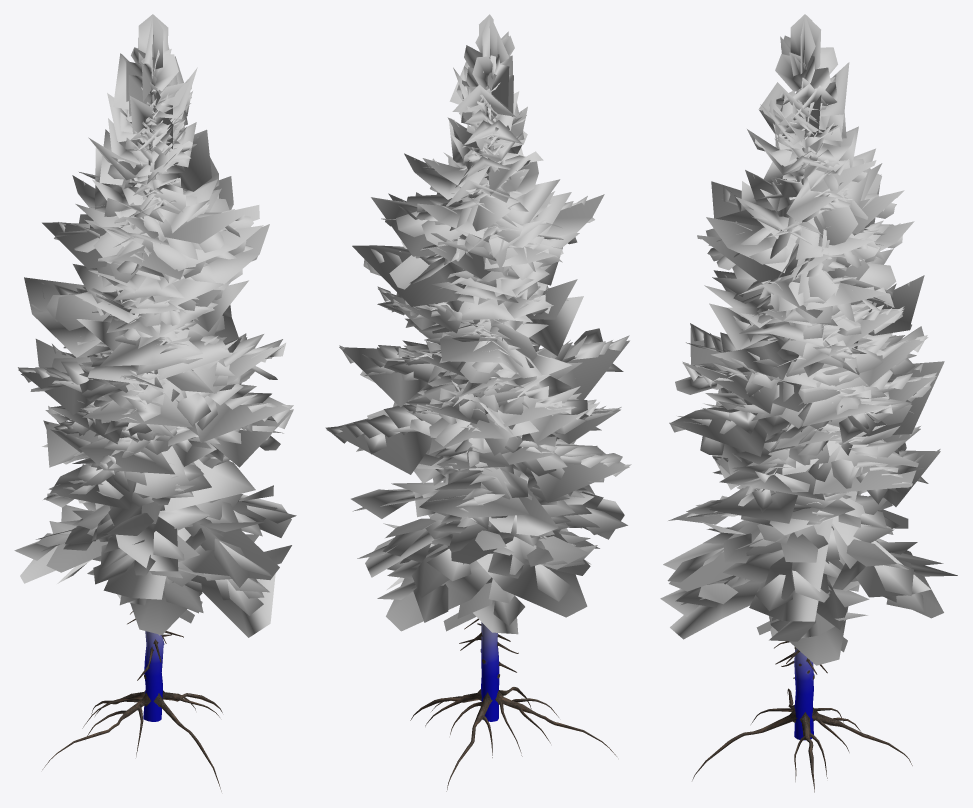
The model's file is Tree1_LOD1.fbx.
3 views of the same model, side by side, from view 1: azimuth 30°, elevation 25°; view 2: azimuth 150°, elevation 25°; view 3: azimuth 270°, elevation 25° (orthographic). The views are drawn at different scales.
Visible parts, largest first — view 1: polySurface164; view 2: polySurface164; view 3: polySurface164.
Part boxes in pixels (box(x1,y1,x2,y2)): polySurface164: box(14, 14, 296, 791); polySurface164: box(325, 14, 631, 791); polySurface164: box(660, 14, 957, 792).
Size of the model in its own units: 717 by 1988 by 706.
